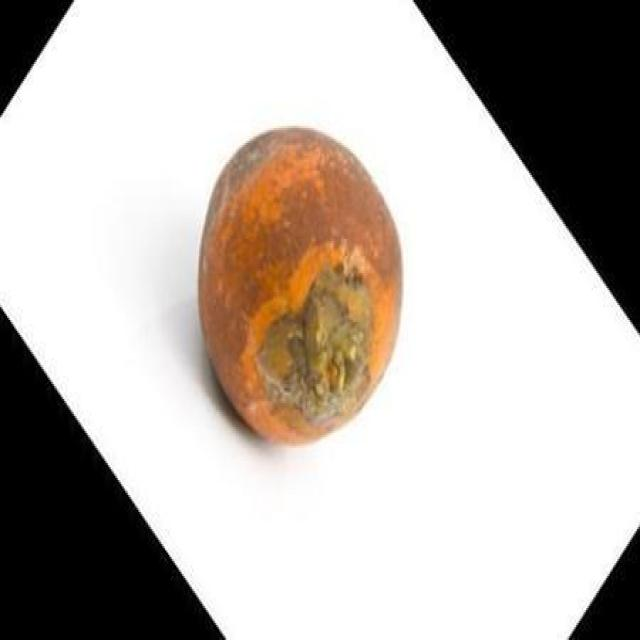good: (195, 126, 405, 448)
